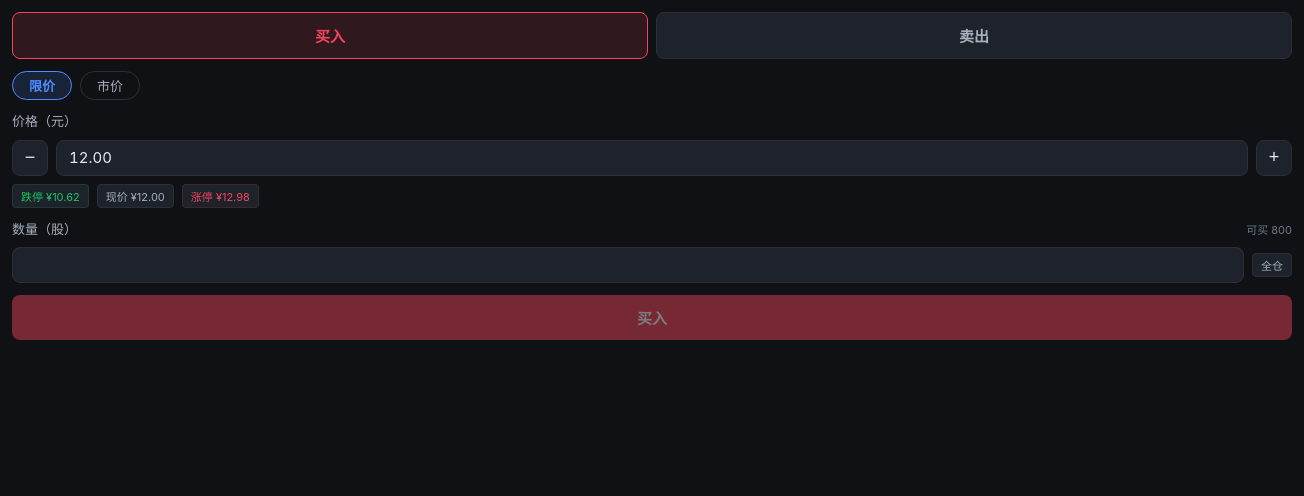
OrderPanel 费用预估 › 买入冻结额确实等于三个分项之和（分项也逐一核对）
Type "100" into the number field with test id "qty-input". click: x=628, y=265
box: [12, 247, 1244, 283]
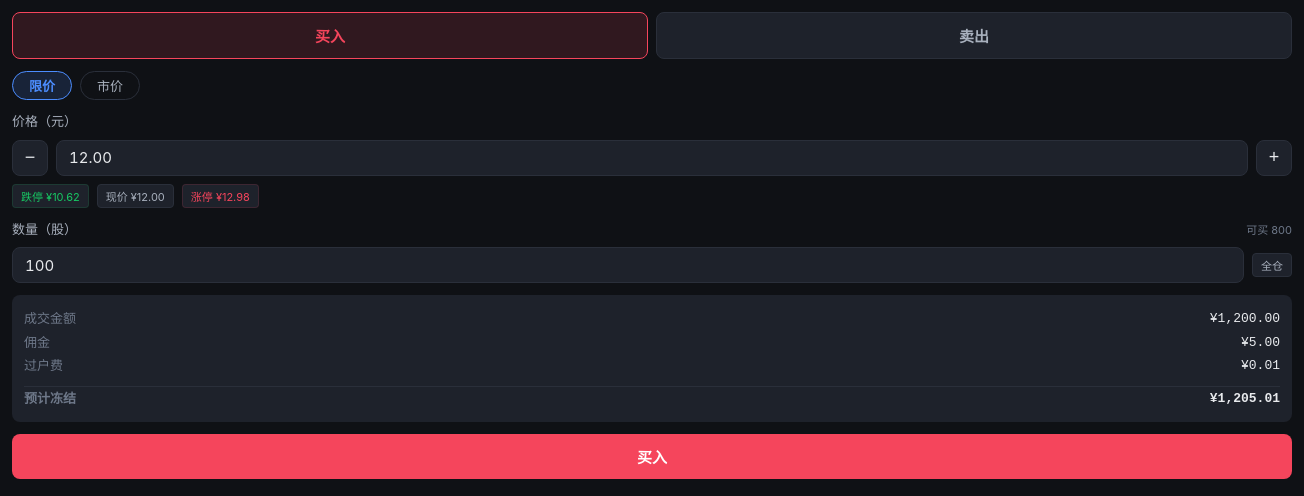
Expected: the element with class "order" shows "¥5.00", [1241, 334, 1280, 350]
